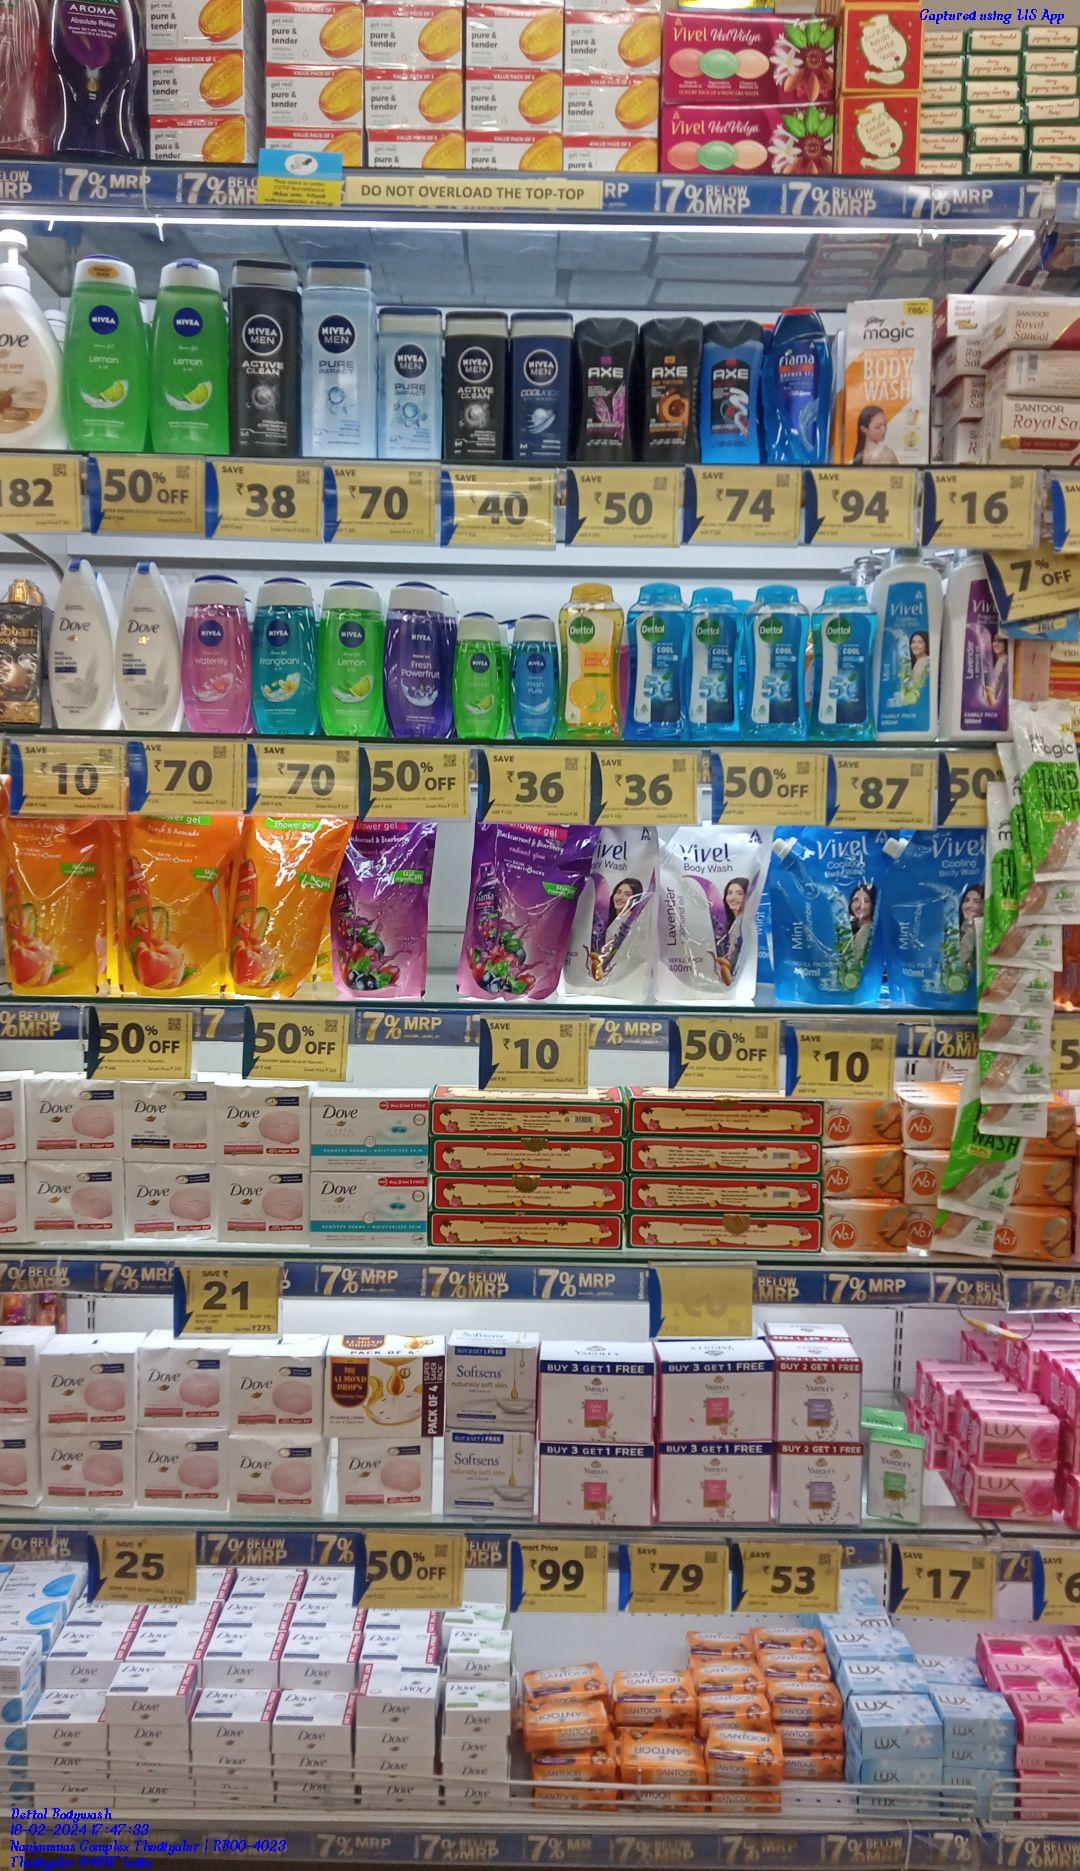Dettol_Bodywash_Cool: (627, 585, 688, 745), (813, 581, 872, 739), (747, 581, 804, 740), (690, 586, 739, 738)
Dettol_Bodywash_Refresh: (561, 581, 621, 743)
Dove_Deep_Moisture_Body_Wash_250ML: (45, 556, 114, 735), (122, 562, 181, 731)
Nivea_Shower_Gel_Frangipani_and_Oil_250ML: (255, 577, 319, 735)
Nivea_Shower_Gel_Fresh_Powerfruit_250ML: (387, 581, 447, 739)
Nivea_Shower_Gel_Lemon_and_Oil_250ML: (67, 251, 147, 452), (150, 260, 228, 452), (320, 589, 383, 739)
Nivea_Shower_Gel_Waterlily_and_Oil_250ML: (184, 577, 252, 741)
